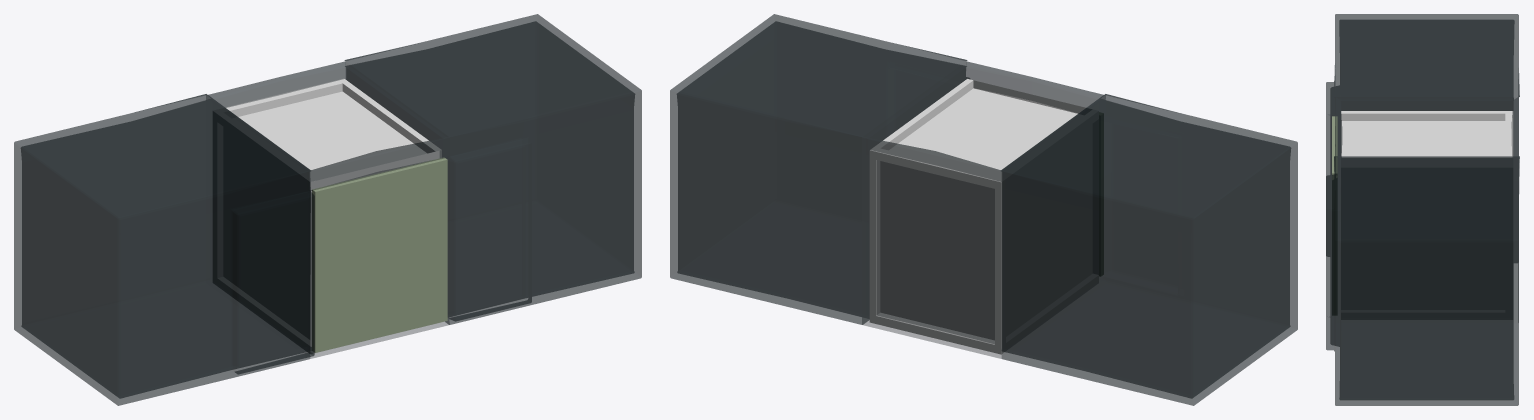
Rendered from FloorNew.fbx.
3 views of the same model, side by side, from view 1: azimuth 30°, elevation 25°; view 2: azimuth 150°, elevation 25°; view 3: azimuth 270°, elevation 25° (orthographic). The views are drawn at different scales.
Visible parts, largest first — view 1: Floor1Shaft.001, Cube.005, Door_Right.001, Cube.004, Door_Left.001, Cube.008, Cube.009, Cube; view 2: Floor1Shaft.001, Cube.008, Cube.005, Cube.004, Cube.009, Cube, Door_Left.001; view 3: Floor1Shaft.001, Cube.009, Cube.004, Cube, Cube.005, Cube.008, Door_Right.001.
Part boxes in pixels (x1,y1,x2,y2): Floor1Shaft.001: (14,14,641,405); Cube.005: (218,113,315,353); Door_Right.001: (375,157,447,337); Cube.004: (213,91,441,189); Door_Left.001: (312,174,377,352); Cube.008: (213,78,348,277); Cube.009: (342,82,441,154); Cube: (213,276,312,353); Floor1Shaft.001: (670,14,1297,405); Cube.008: (871,148,1005,345); Cube.005: (995,110,1098,353); Cube.004: (869,80,1098,189); Cube.009: (869,79,973,323); Cube: (876,274,1098,354); Door_Left.001: (1099,112,1103,275); Floor1Shaft.001: (1326,14,1519,405); Cube.009: (1341,166,1504,309); Cube.004: (1341,121,1512,174); Cube: (1341,310,1512,319); Cube.005: (1341,111,1513,120); Cube.008: (1505,113,1513,317); Door_Right.001: (1332,143,1337,314).
Size of the model in its own units: 918 by 316 by 332.
